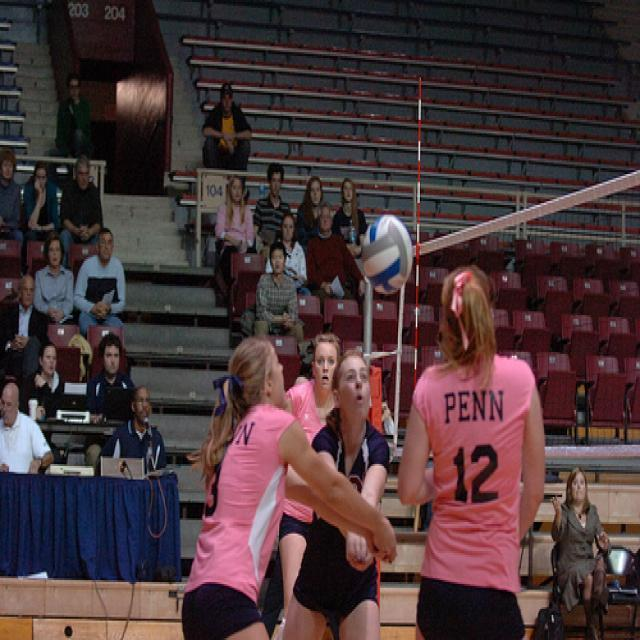volleyball: (362, 213, 412, 294)
